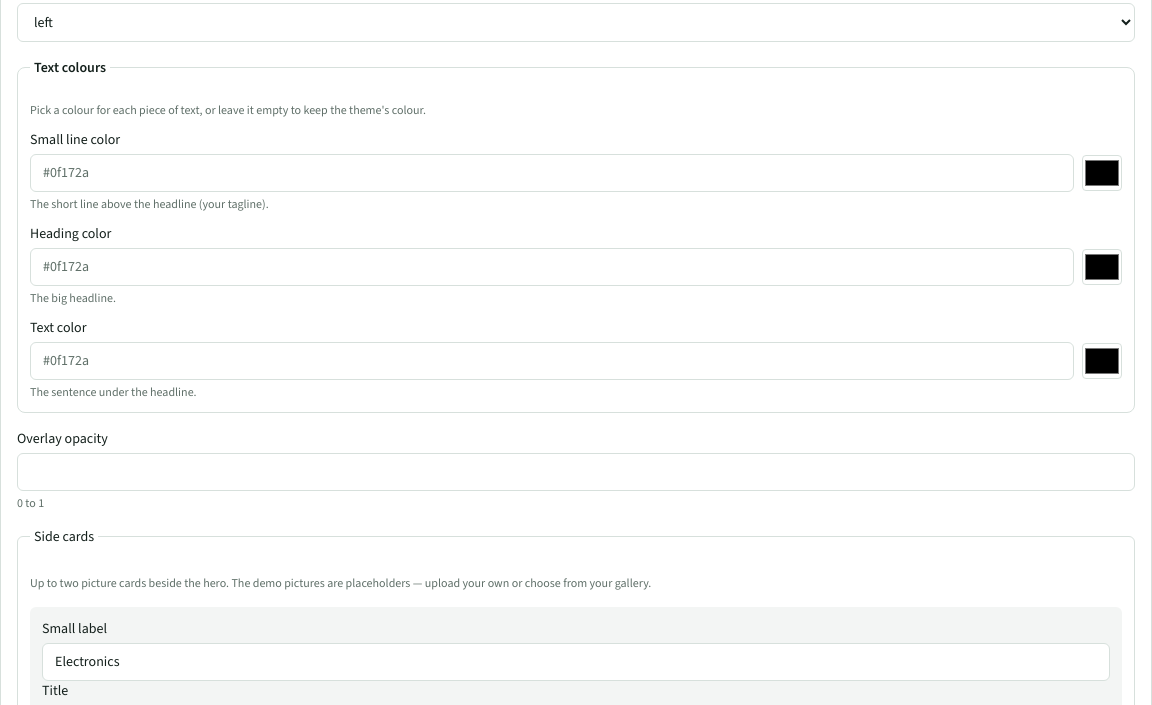
Test: Hero → text colours › sets the banner text colour and can go back to the theme colour
(page scrolled)
Type "#ffee00" into the field labelled "Text color" at point(552, 361), box 30,342 -> 1074,380
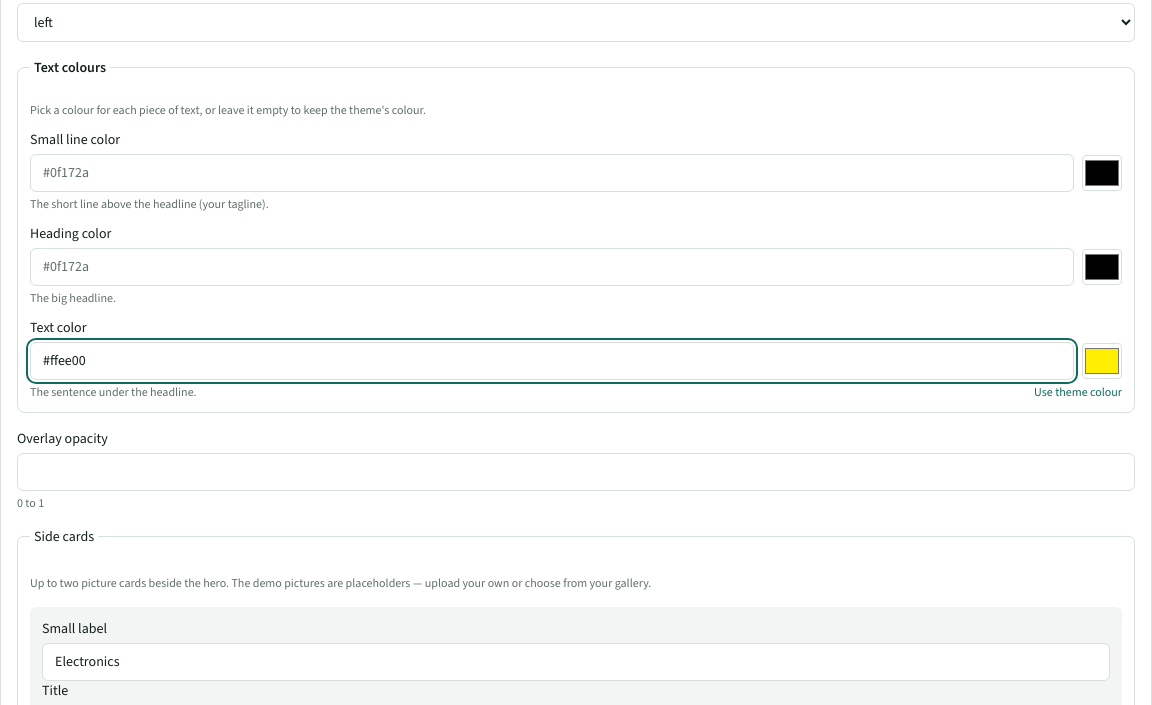
Click the button "Use theme colour" at point(1078, 392), box 1034,384 -> 1122,400
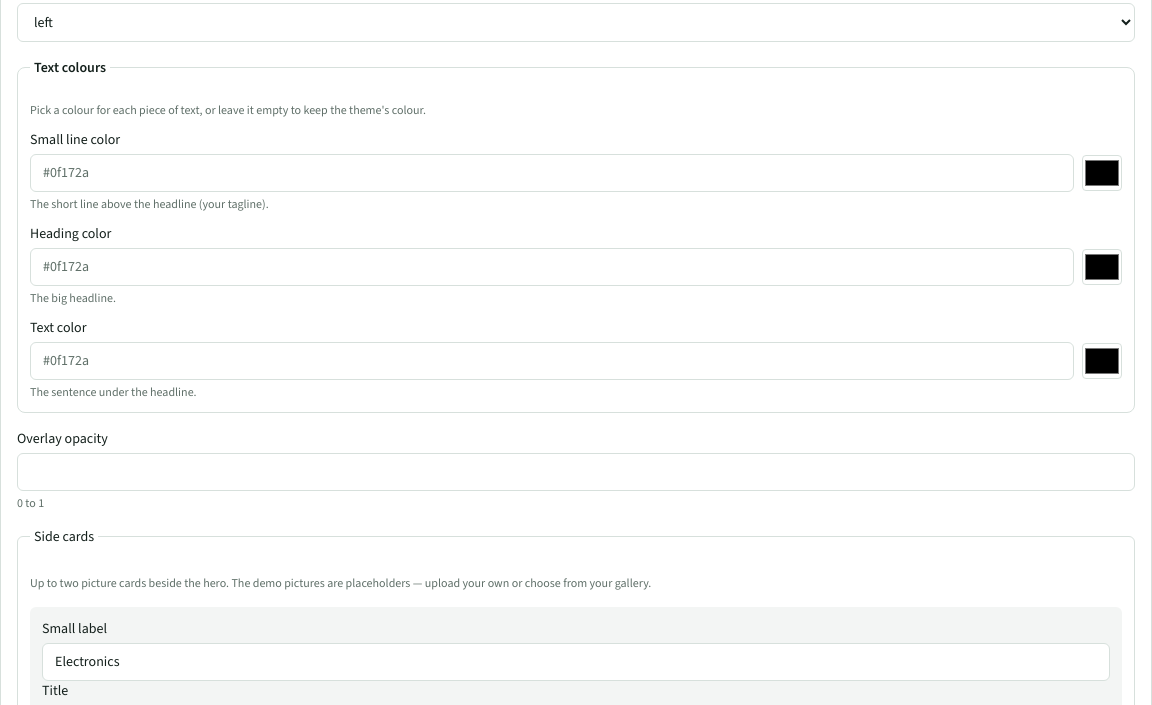
expect the button "Use theme colour" is gone: met
